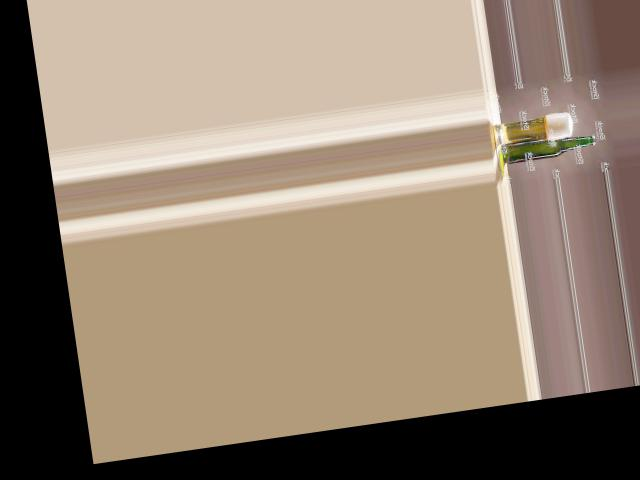beer: (500, 130, 597, 164)
